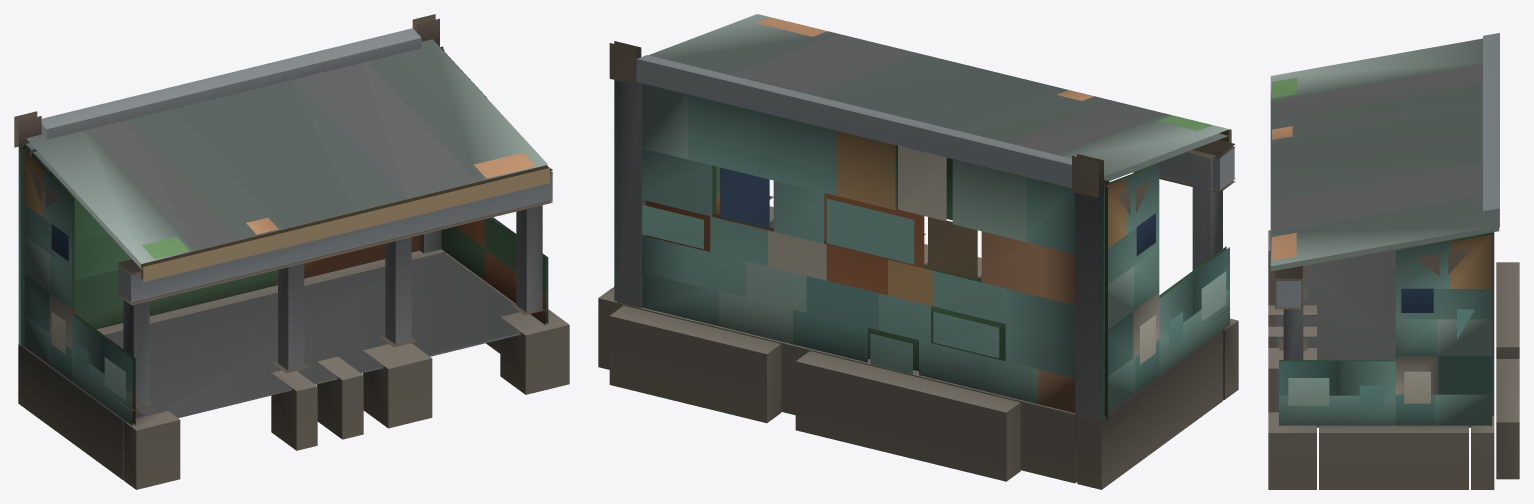
The model's file is shed.lod.glb.
3 renders of one model, left to right at view 1: azimuth 30°, elevation 25°; view 2: azimuth 150°, elevation 25°; view 3: azimuth 270°, elevation 25°, orthographic. The views are drawn at different scales.
Visible parts, largest first — view 1: shed.001; view 2: shed.001; view 3: shed.001.
Boxes of the visible parts, x1,y1,x2,y2 form: shed.001: (14,14,569,489); shed.001: (598,14,1238,489); shed.001: (1268,33,1519,489).
Size of the model in its own units: 9.48 by 5.94 by 4.98.
